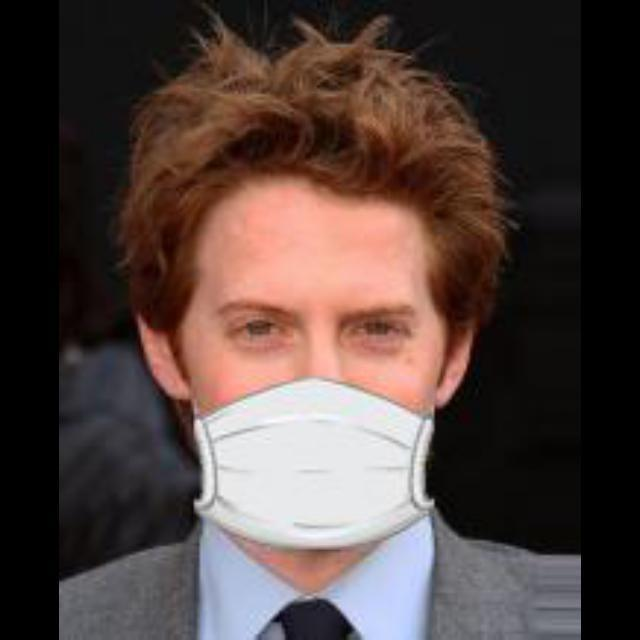suspicion: (160, 91, 478, 537)
